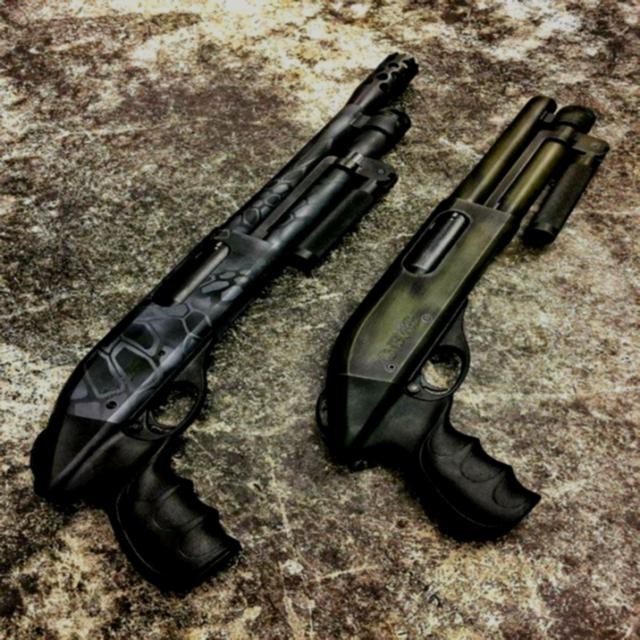shotgun: (324, 80, 618, 546)
